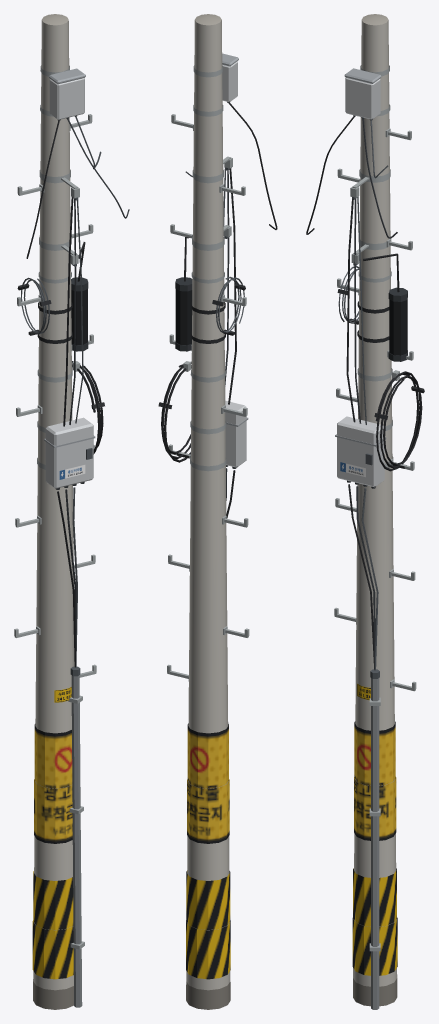
File: SC_Util_Pole_Telecom.gltf
The picture shows the model from 3 angles, left to right: view 1: azimuth 30°, elevation 25°; view 2: azimuth 150°, elevation 25°; view 3: azimuth 330°, elevation 25°; orthographic projection.
Visible parts, largest first — view 1: SC_Util_Pole_Telecom; view 2: SC_Util_Pole_Telecom; view 3: SC_Util_Pole_Telecom.
Part boxes in pixels (x1,y1,x2,y2): SC_Util_Pole_Telecom: (14, 14, 129, 1009); SC_Util_Pole_Telecom: (158, 14, 277, 1009); SC_Util_Pole_Telecom: (306, 14, 424, 1009).
Size of the model in its own units: 0.8321 by 8.02 by 0.7528.
2 materials, 2 textured.
